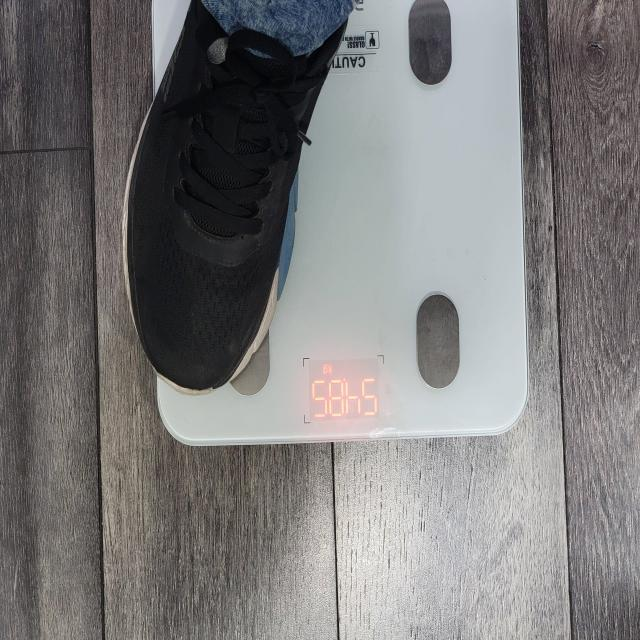ws: (297, 356, 386, 441)
